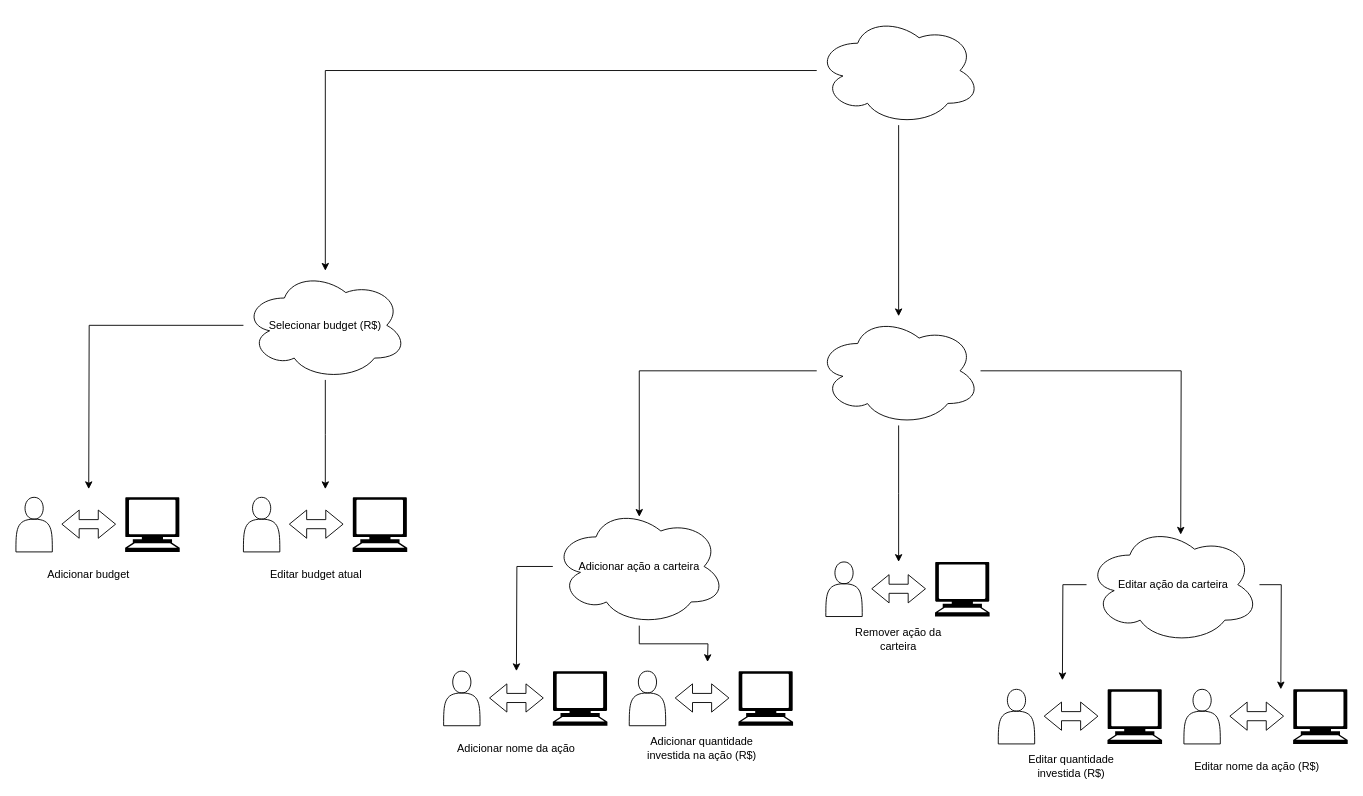
Some shapes in this 1363 by 796 pixel diagram are drawn without their labels. The shapes that lost their labels are listed below. From the top down, each one's centre as x and y in pixels, then its label:
At point 898,70: "Realizar Simulação de Investimentos".
At point 898,370: "Selecionar Ações (CRUD)".
